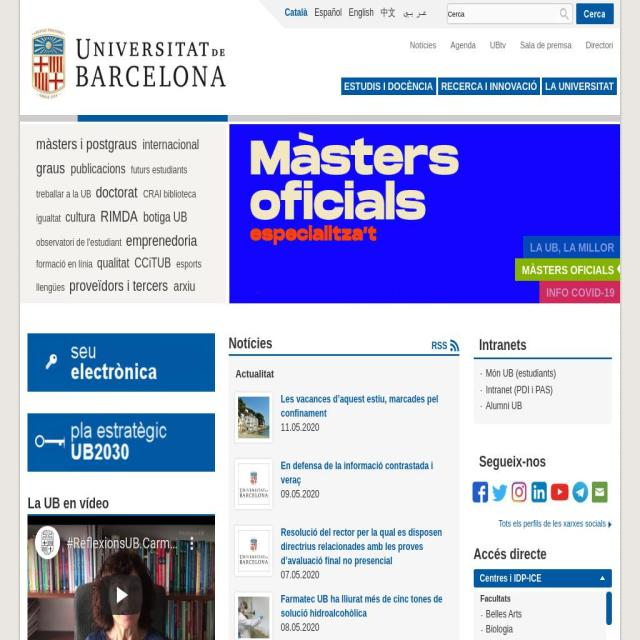button: (229, 124, 620, 304), (27, 332, 215, 392), (27, 412, 215, 472), (480, 571, 612, 585), (438, 77, 540, 95), (341, 77, 436, 95), (542, 77, 617, 95), (498, 518, 613, 528), (550, 482, 569, 503), (472, 482, 488, 503), (492, 482, 508, 503), (512, 482, 528, 503), (531, 482, 547, 503), (572, 482, 588, 503), (592, 482, 608, 503)
field: (447, 3, 574, 24), (576, 3, 614, 24)
heading: (0, 28, 640, 58), (228, 333, 460, 354), (27, 493, 215, 515), (235, 366, 460, 382), (473, 543, 613, 565), (478, 337, 612, 352), (478, 454, 612, 469)
iframe: (28, 516, 216, 640)
image: (229, 124, 620, 304), (27, 332, 215, 392), (27, 412, 215, 472), (473, 482, 613, 503), (234, 459, 266, 502), (234, 393, 266, 435), (234, 526, 266, 568), (234, 593, 266, 635), (550, 482, 569, 503), (492, 482, 508, 503), (512, 482, 528, 503), (531, 482, 547, 503), (572, 482, 588, 503), (592, 482, 608, 503), (606, 591, 612, 625), (617, 239, 622, 268)
link: (280, 526, 442, 568), (280, 593, 442, 620), (281, 393, 438, 420), (281, 460, 433, 487), (36, 134, 136, 153), (69, 276, 168, 294), (125, 231, 198, 249), (36, 236, 122, 248), (142, 136, 199, 152), (486, 383, 553, 396), (70, 161, 126, 176), (486, 368, 556, 380), (96, 182, 138, 201), (131, 163, 188, 176), (100, 207, 138, 225), (143, 209, 188, 224), (36, 258, 92, 270), (36, 188, 91, 200), (142, 188, 196, 200), (520, 39, 572, 51), (134, 255, 172, 270), (36, 158, 65, 177), (97, 255, 130, 270), (65, 209, 96, 224), (486, 400, 522, 412), (486, 608, 522, 620), (173, 278, 196, 294), (403, 4, 429, 18), (486, 623, 513, 636), (36, 281, 65, 293), (586, 39, 614, 51), (409, 39, 436, 51), (450, 39, 476, 51), (176, 258, 202, 270), (314, 7, 342, 18), (36, 212, 61, 224), (348, 7, 374, 18), (284, 7, 308, 18), (432, 339, 448, 352), (490, 39, 506, 51), (380, 7, 396, 18), (486, 638, 553, 640)
text: (522, 262, 627, 278), (530, 240, 628, 255), (546, 285, 628, 300), (280, 488, 320, 501), (280, 569, 320, 582), (280, 422, 320, 434), (280, 622, 320, 634), (480, 592, 511, 604), (626, 262, 640, 278), (626, 240, 640, 255), (627, 285, 640, 300)
